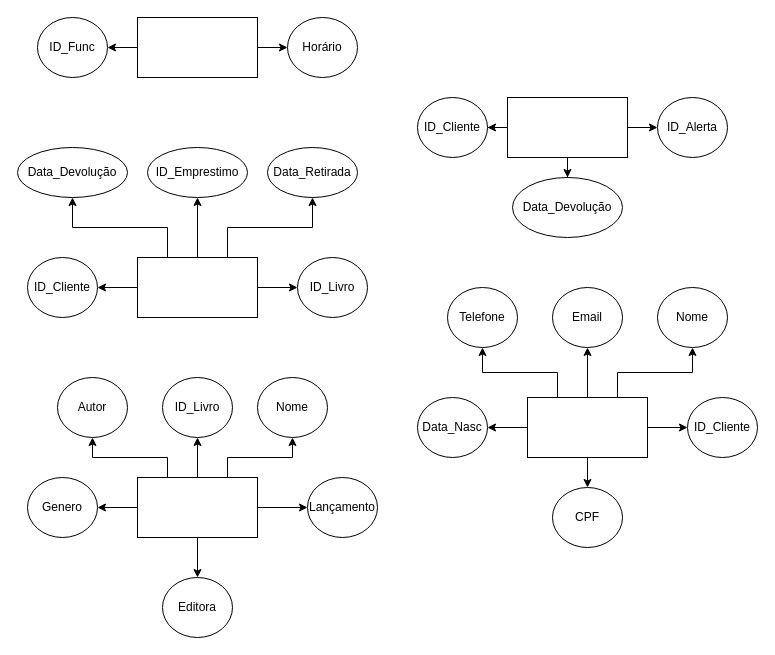
The diagram is 775 pixels wide and 655 high, and some of its shapes have lost their labels. Here are the shapes that lost their labels. From the top down, the box of each, then its label:
(136, 16, 258, 78): Funcionário
(506, 96, 628, 158): Alerta
(136, 256, 258, 318): formulario_emprestimo
(526, 396, 648, 458): Cliente
(136, 476, 258, 538): Livro
